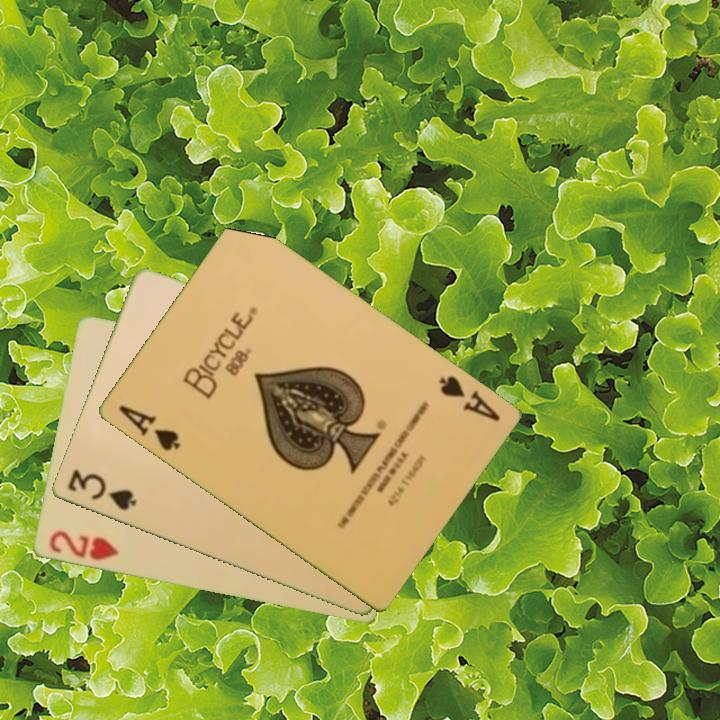2h: (45, 527, 121, 564)
3s: (63, 466, 139, 514)
As: (114, 401, 183, 454), (435, 372, 503, 425)
